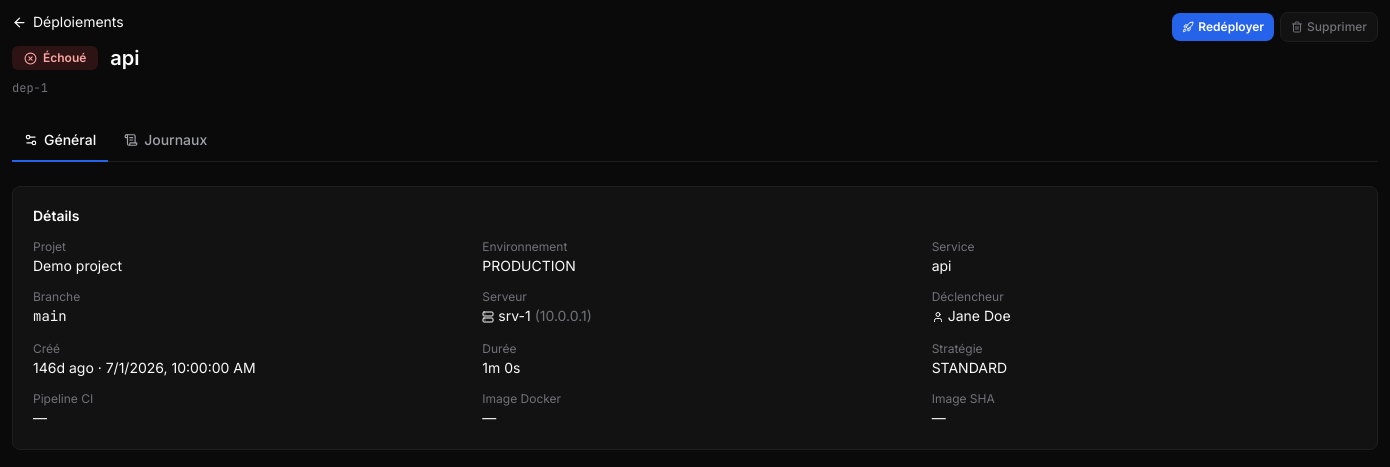
Scenario: DeploymentDetailPage — onglets (P2.4) › shows the stored logs (structured per-line) in the Logs tab
The image size is (1390, 467).
Expected: the text "Détails" is shown, x1=33 y1=208 x2=80 y2=225
Expected: the text "Starting build" is not shown
# Bascule sur l'onglet Logs.
Click the button "Journaux".
click(166, 141)  # box x1=112 y1=120 x2=219 y2=162
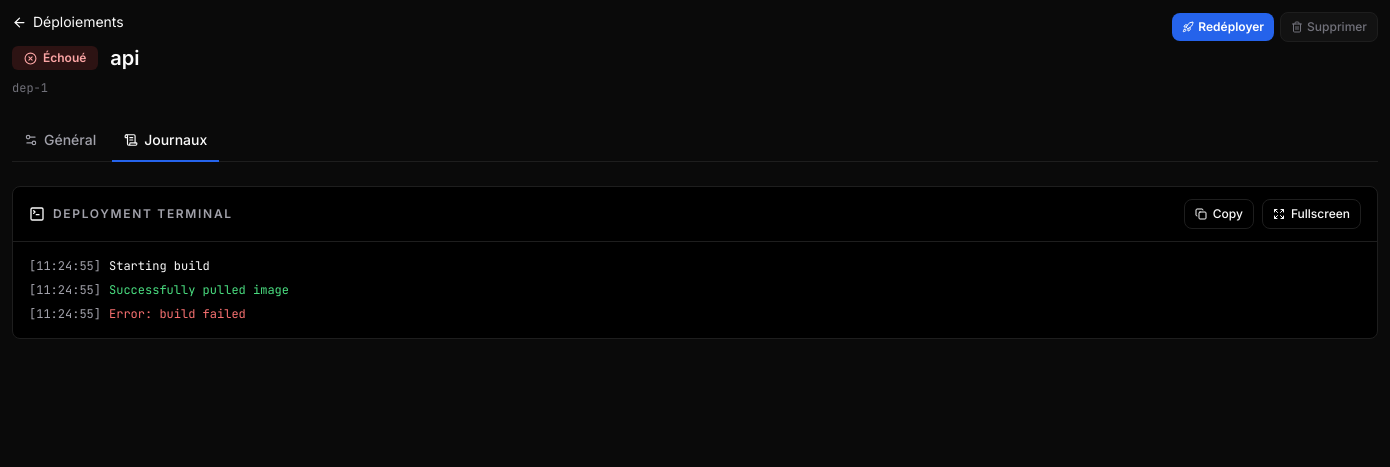
Expected: the text "Starting build" is shown, x1=109 y1=258 x2=210 y2=274
Expected: the text "Deployment terminal" is shown, x1=53 y1=206 x2=233 y2=222
Expected: the text "Successfully pulled image" is shown, x1=109 y1=282 x2=289 y2=298
